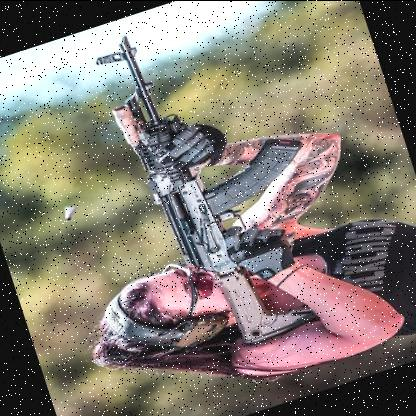rifle: (88, 0, 363, 375)
